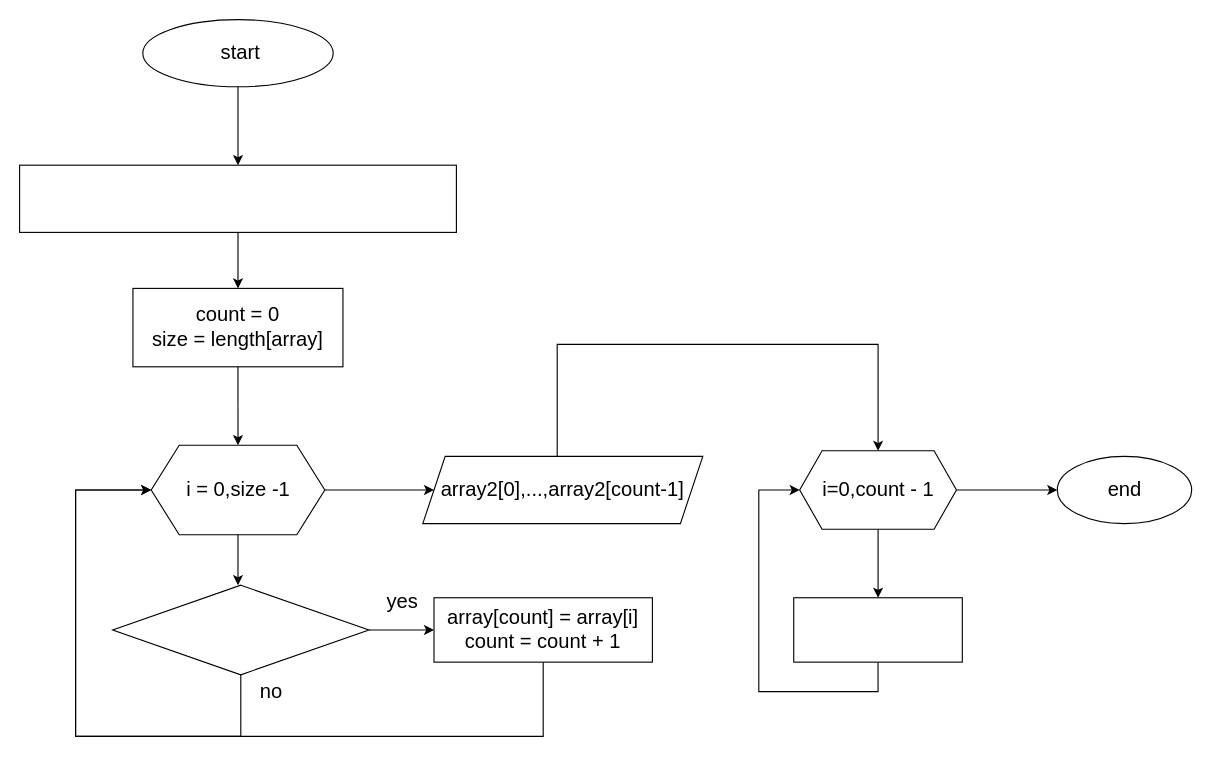
The diagram is 1212 pixels wide and 765 high, and some of its shapes have lost their labels. Each missing label, with the box of its shape:
array = ["toy","go","field","I","speak","*&3","23d7","()"]: (18, 164, 456, 232)
array2[i] = array[i]: (793, 597, 962, 662)
if length[array[i]] < 4: (112, 584, 369, 675)
